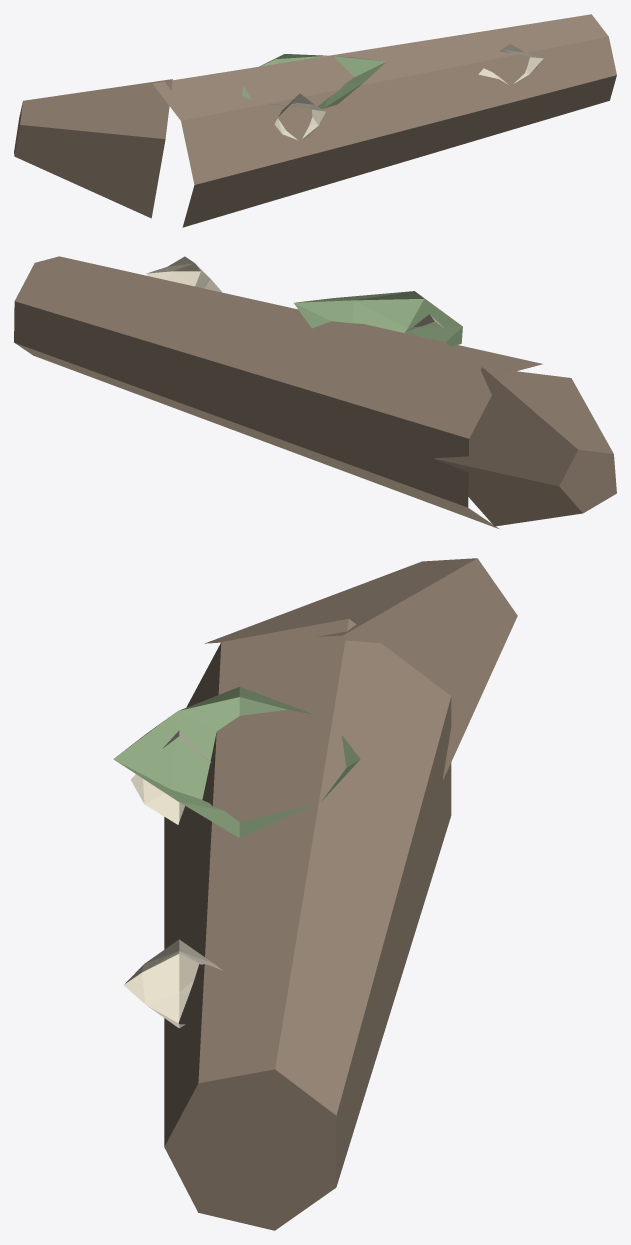
The model's file is log_v30.glb.
3 views of the same model, one above another, from view 1: azimuth 30°, elevation 25°; view 2: azimuth 150°, elevation 25°; view 3: azimuth 270°, elevation 25° (orthographic). The views are drawn at different scales.
Visible parts, largest first — view 1: lod0; view 2: lod0; view 3: lod0.
Part boxes in pixels (x1=…): lod0: x1=14, y1=14, x2=616, y2=227; lod0: x1=14, y1=256, x2=616, y2=528; lod0: x1=113, y1=558, x2=517, y2=1230.
Size of what is drawn, in the model's own units: 2.32 by 0.6174 by 0.7493.
